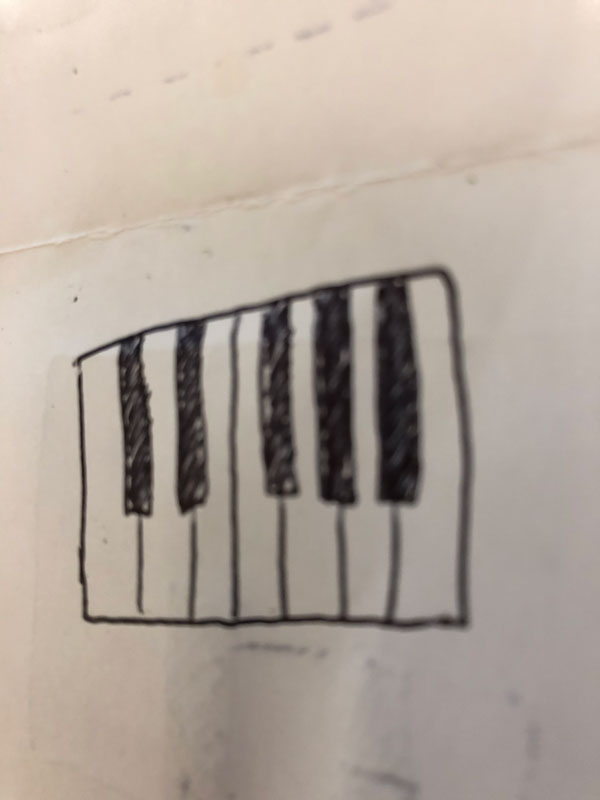piano: (55, 266, 473, 630)
